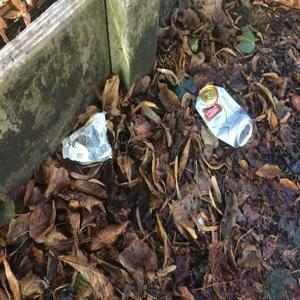metal: (189, 78, 266, 164)
plastic: (63, 117, 117, 164)
